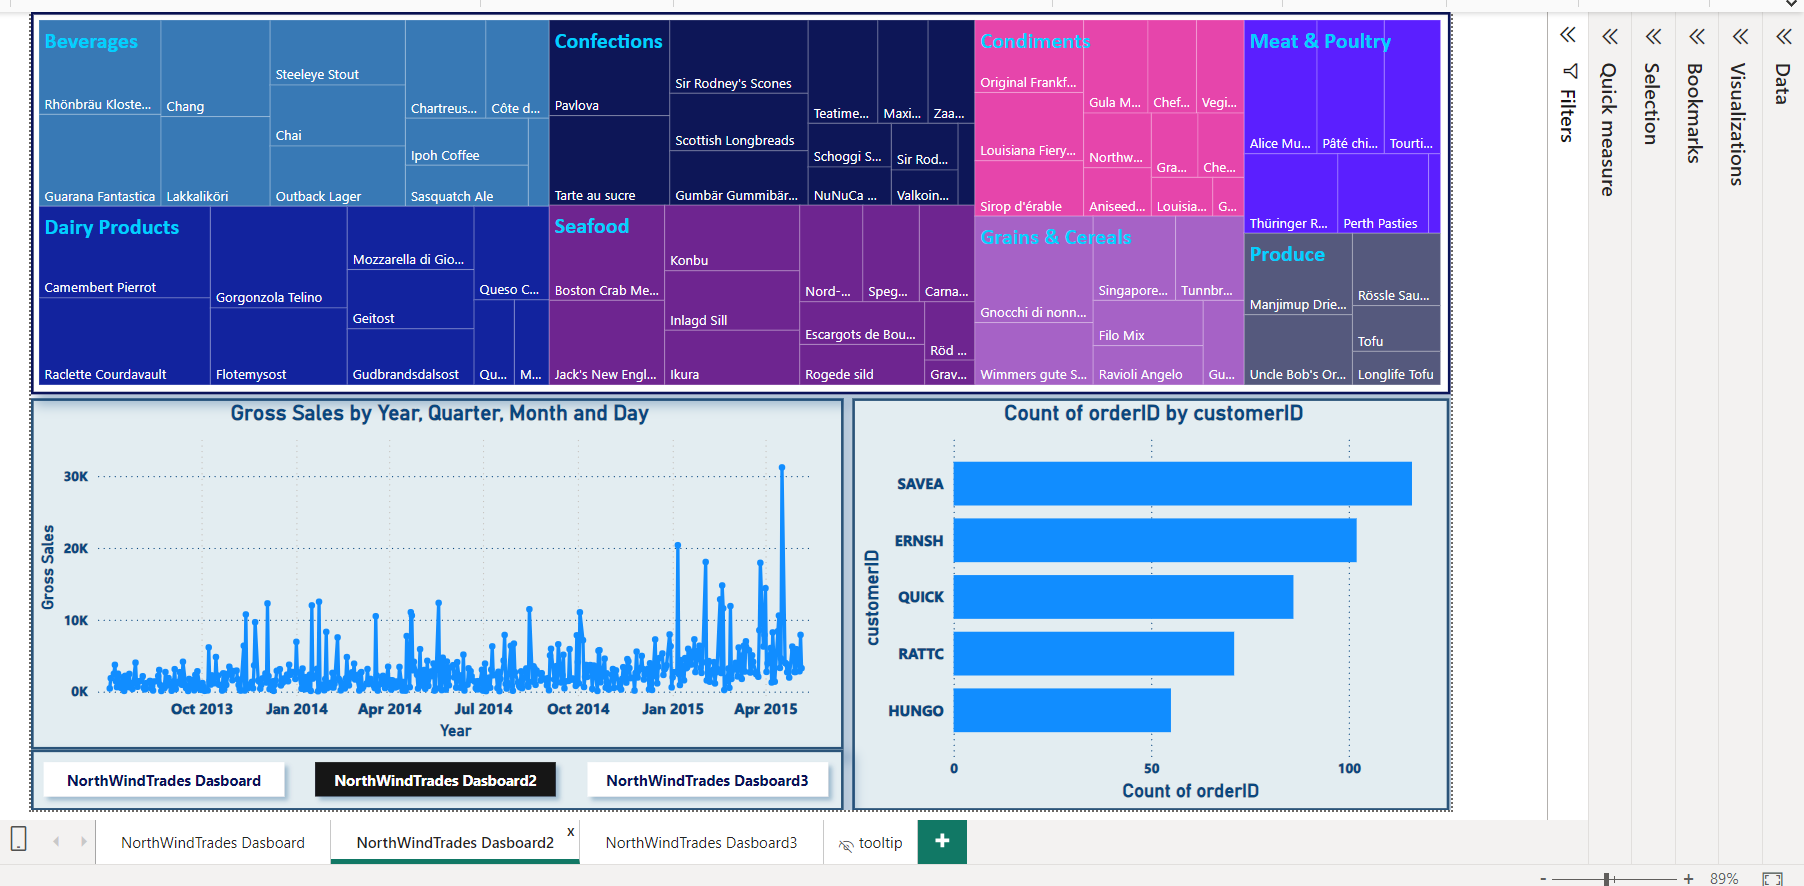

What the dashboard file says about the page in this screenshot:
{"tool":"powerbi","page":{"name":"NorthWindTrades Dasboard2","canvas":[1280,720],"ordinal":1},"visuals":[{"type":"lineChart","fields":{"Y":["Dax Mesures.Gross Sales"],"Category":["Date Dim.Date.Variation.Date Hierarchy.Year","Date Dim.Date.Variation.Date Hierarchy.Quarter","Date Dim.Date.Variation.Date Hierarchy.Month","Date Dim.Date.Variation.Date Hierarchy.Day"]},"box":[0,348.3,732.6,316.7],"z":0},{"type":"treemap","fields":{"Group":["products Dim.categoryName"],"Details":["products Dim.productName"],"Values":["Dax Mesures.Total Quantity"]},"box":[0,0,1279.8,345.1],"z":1000},{"type":"clusteredBarChart","fields":{"Category":["Fact Orders.customerID"],"Y":["CountNonNull(Fact Orders.orderID)"]},"box":[740.5,348.3,538.8,371.9],"z":2000},{"type":"pageNavigator","box":[0,665,732.6,55.2],"z":3000}]}

Visuals, with their boxes on the page's 1280x720 design canvas (x1, y1, x2, y2). These are canvas units, not pixel positions in the 1804x886 screenshot, which may show the page scaled, cropped or inside an application window:
lineChart - Dax Mesures.Gross Sales x Date Dim.Date.Variation.Date Hierarchy.Year: 0/348/733/665
treemap - products Dim.categoryName x products Dim.productName: 0/0/1280/345
clusteredBarChart - Fact Orders.customerID x CountNonNull(Fact Orders.orderID): 740/348/1279/720
pageNavigator: 0/665/733/720
